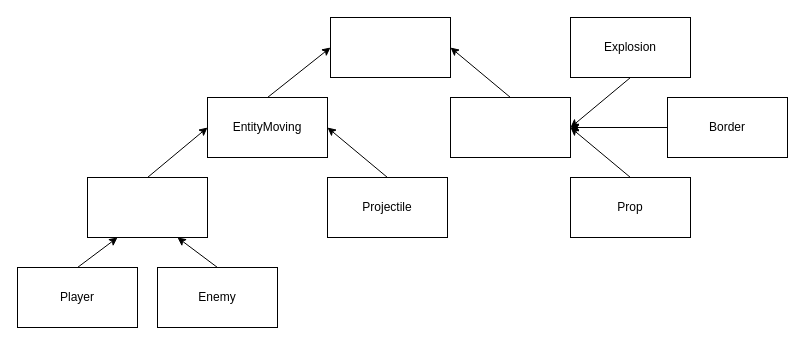
Image size: 805x345. Some labels were removed from this diagram. Each missing label, with the centre of its shape:
"Entity" belongs at point (390, 47).
"EntityInanimate" belongs at point (510, 127).
"EntityLiving" belongs at point (147, 207).
